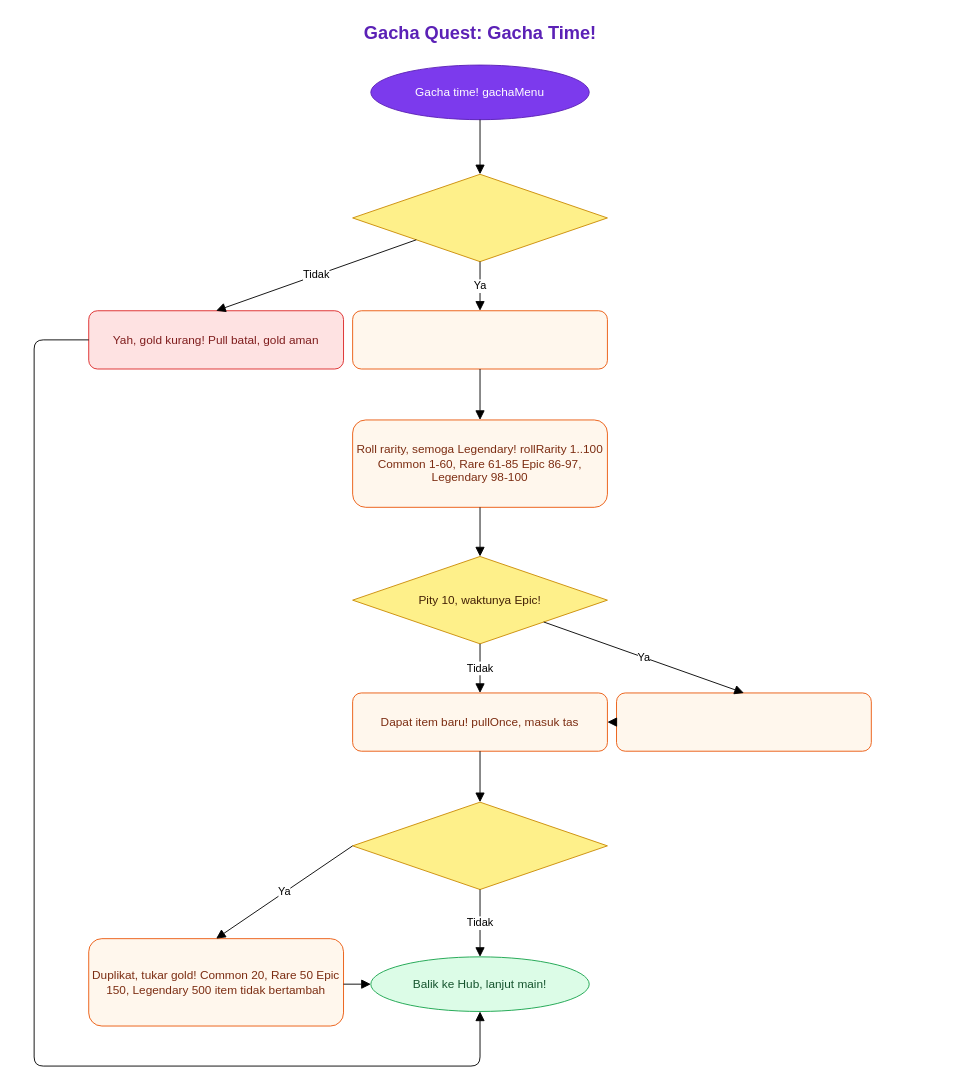
Some shapes in this 959 by 1091 pixel diagram are drawn without their labels. Each missing label, with the centre of its shape:
Epic dijamin! pity kembali 0: the point at 743,721
Gold cukup nggak?: the point at 479,217
Tarik 1x atau 10x? 1x 100 gold, 10x 900 gold: the point at 479,339
Tas penuh?: the point at 479,845
